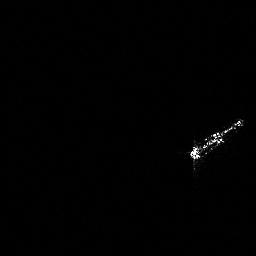ship: (187, 116, 246, 169)
